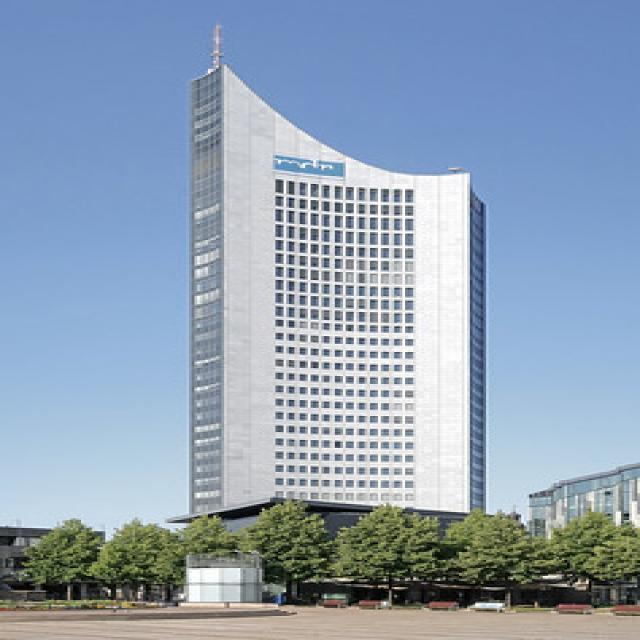Normal_building: (174, 62, 509, 530)
